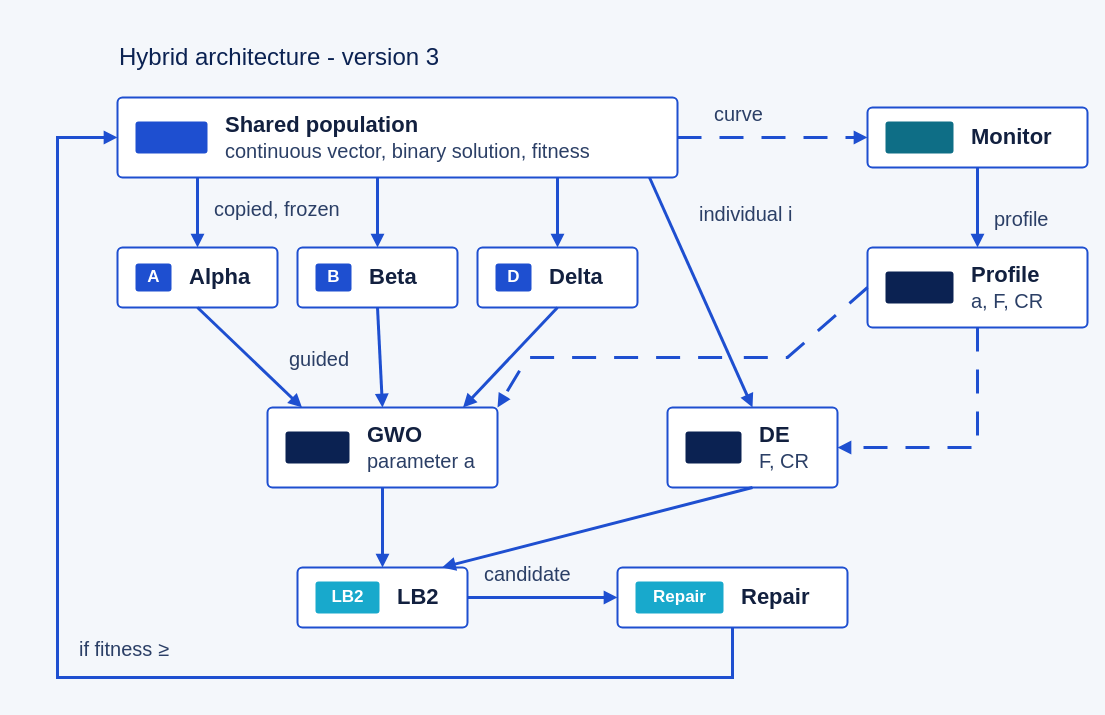
This 1105x715 diagram has some shape labels left out. Each missing label, with the centre of its shape:
"DE" belongs at (x=713, y=447).
"GWO" belongs at (x=317, y=447).
"Mon" belongs at (x=919, y=137).
"Pop" belongs at (x=171, y=137).
"Prof" belongs at (x=919, y=287).
